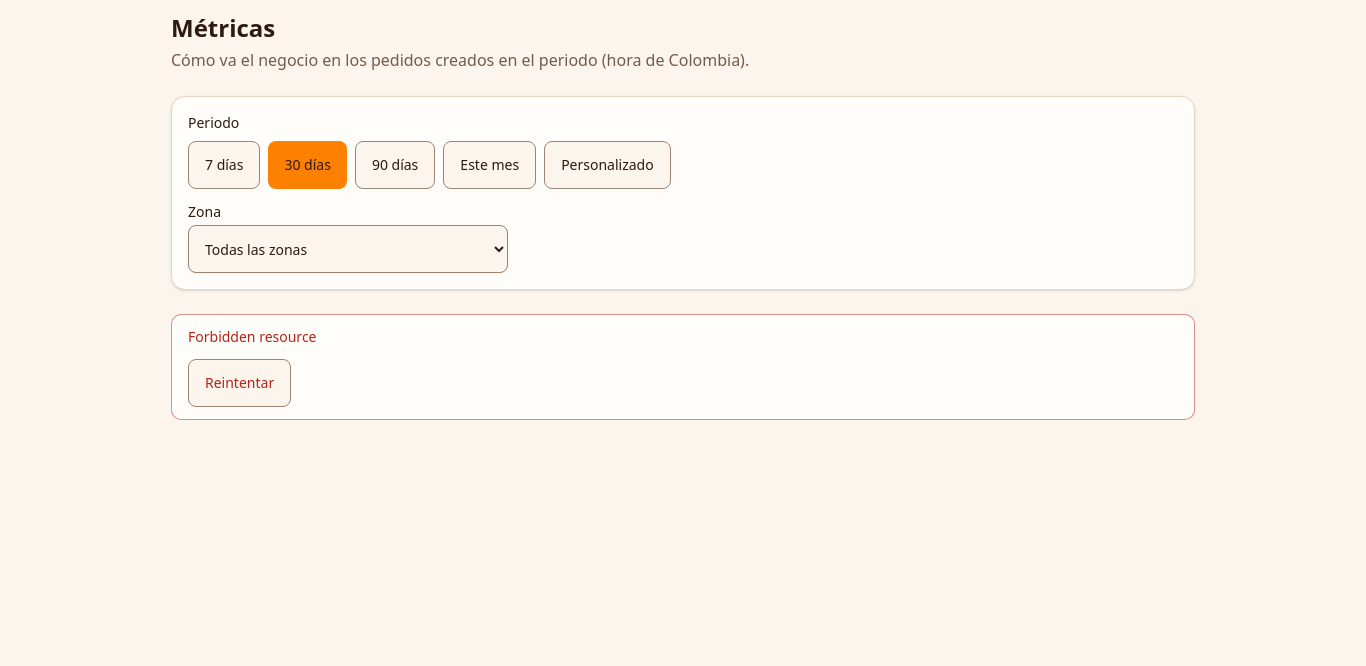
MetricsView › error del back: texto y «Reintentar» que vuelve a pedir
Check: the message "Forbidden resource Reintentar" is shown, box [171, 314, 1195, 420]
Click the button "Reintentar". click: click(240, 383)
box: [188, 359, 291, 407]
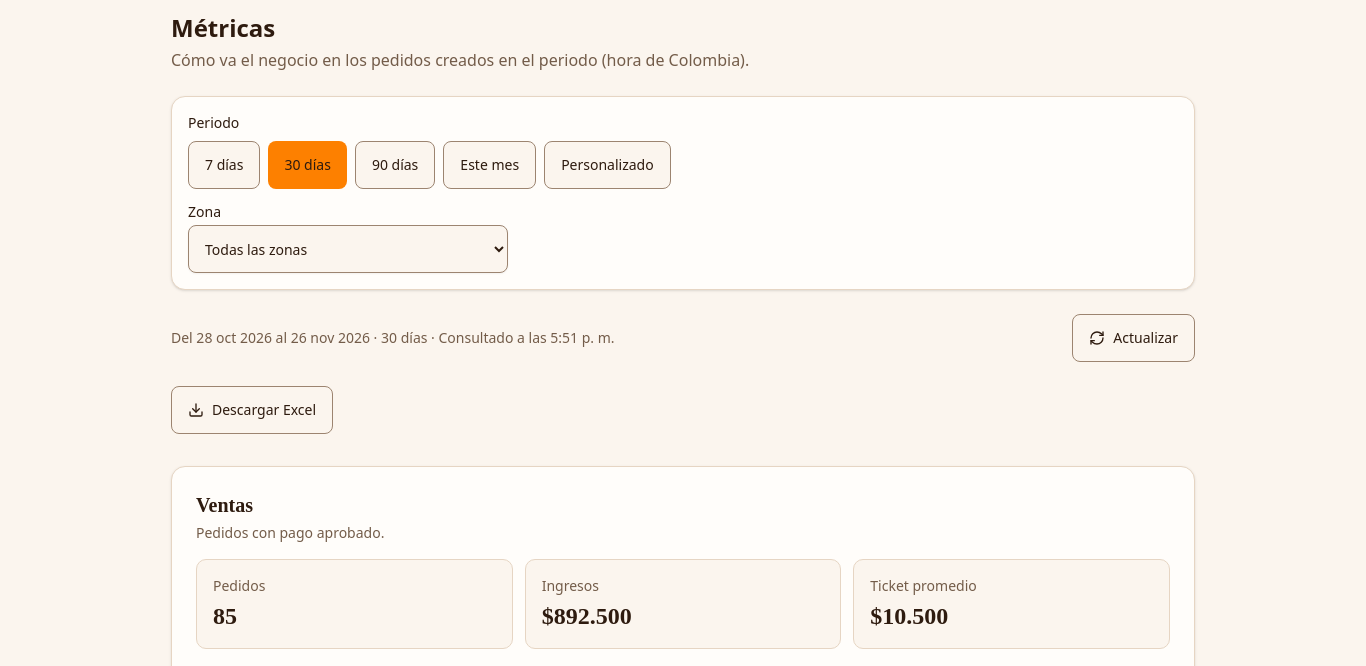
Check: the heading "Ventas" is shown, box [196, 494, 253, 516]
